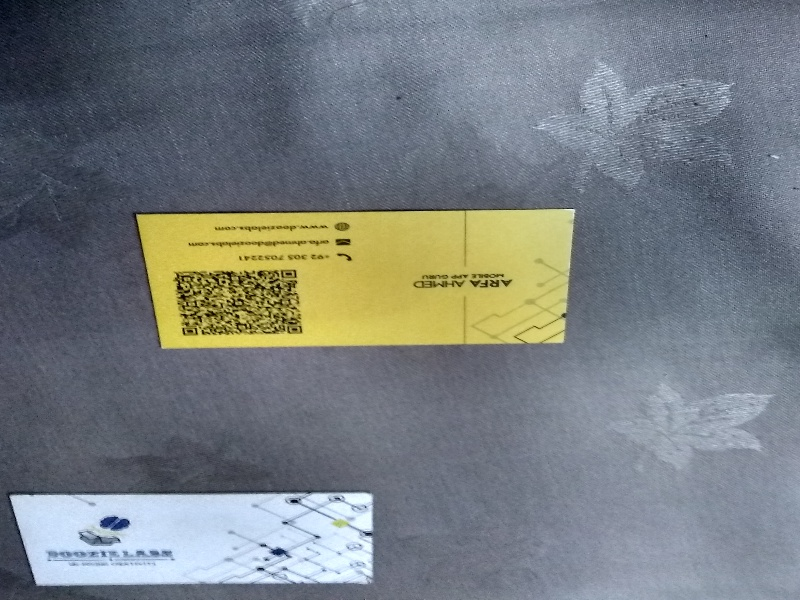front: (133, 211, 580, 346)
